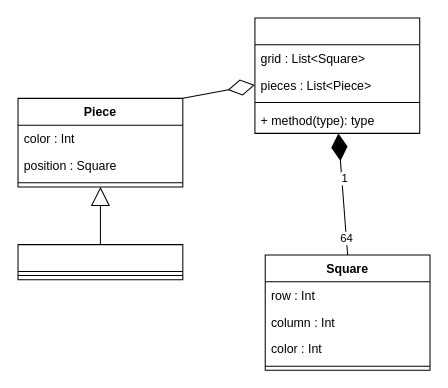
Image size: 448x388. Some labels were removed from this diagram. Each missing label, with the box of its shape:
Board: (254, 17, 420, 133)
King: (17, 244, 183, 280)
